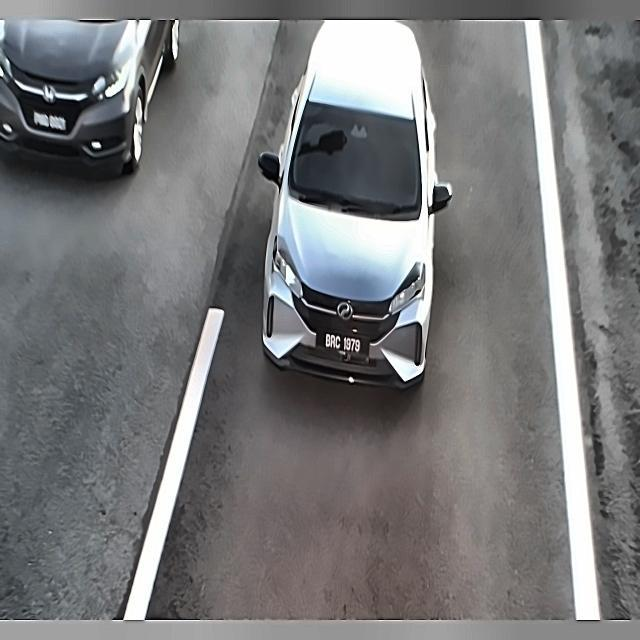car: (28, 106, 71, 141), (317, 329, 367, 357)
